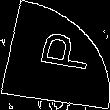P_W: (22, 32, 88, 78)
